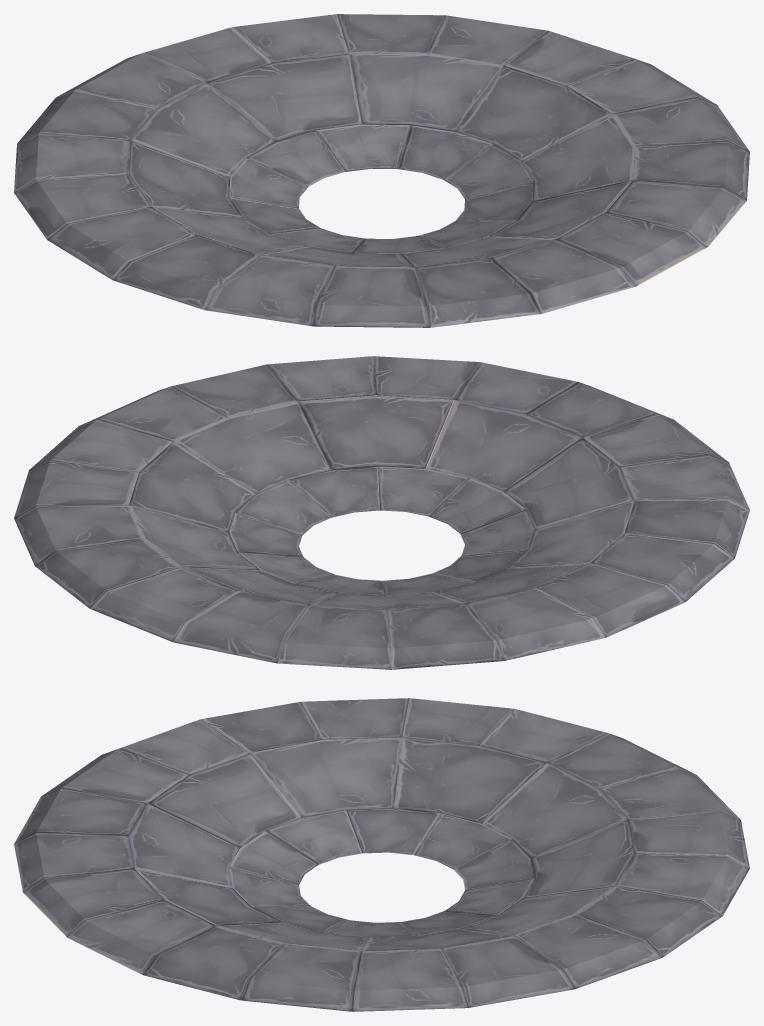
File: Virgo_hero_LevelCentre.fbx
The picture shows the model from 3 angles, top to bottom: view 1: azimuth 30°, elevation 25°; view 2: azimuth 150°, elevation 25°; view 3: azimuth 270°, elevation 25°; orthographic projection.
Visible parts, largest first — view 1: Centre_Platform; view 2: Centre_Platform; view 3: Centre_Platform.
Boxes of the visible parts, x1,y1,x2,y2 form: Centre_Platform: (14, 14, 749, 327); Centre_Platform: (14, 356, 749, 669); Centre_Platform: (14, 698, 749, 1011).
Bounding box in the file's own units: 2180 × 142 × 2180.
